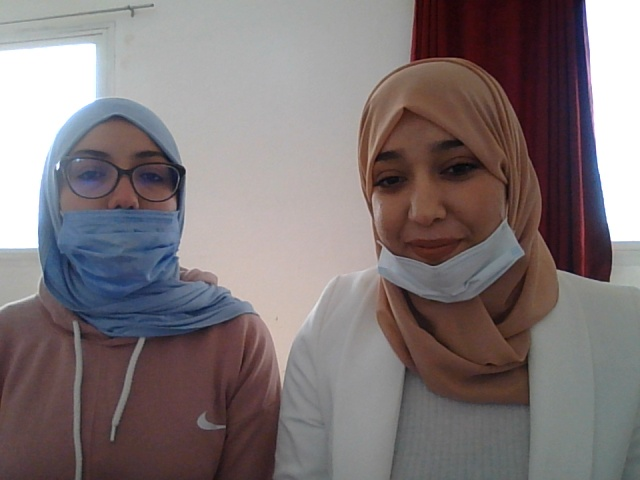mask_weared_incorrect: (343, 75, 532, 318), (41, 100, 171, 304)
